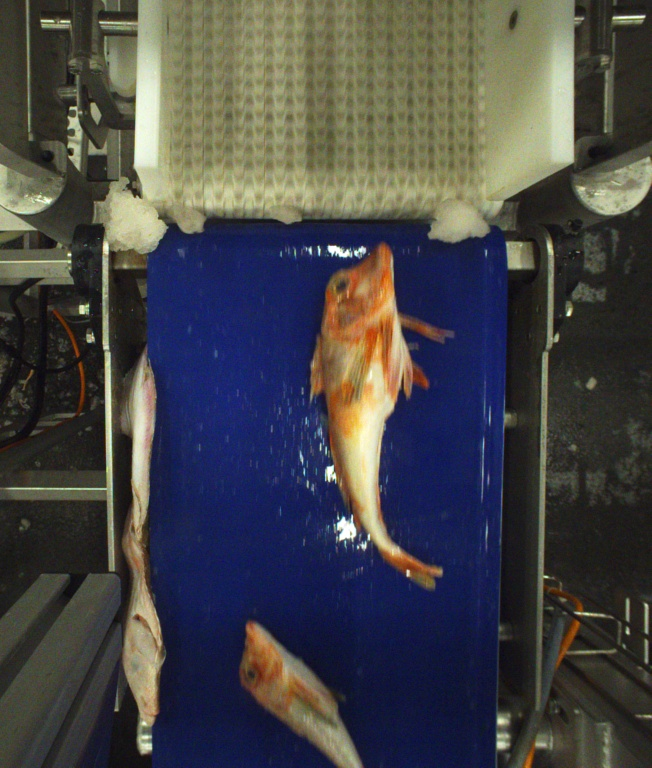GUU: (239, 620, 366, 768)
